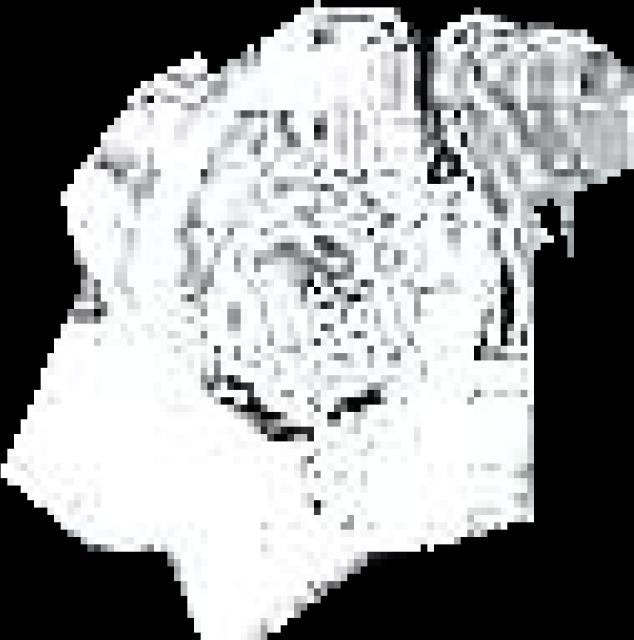tumor_moderate_chance: (1, 0, 634, 640)
